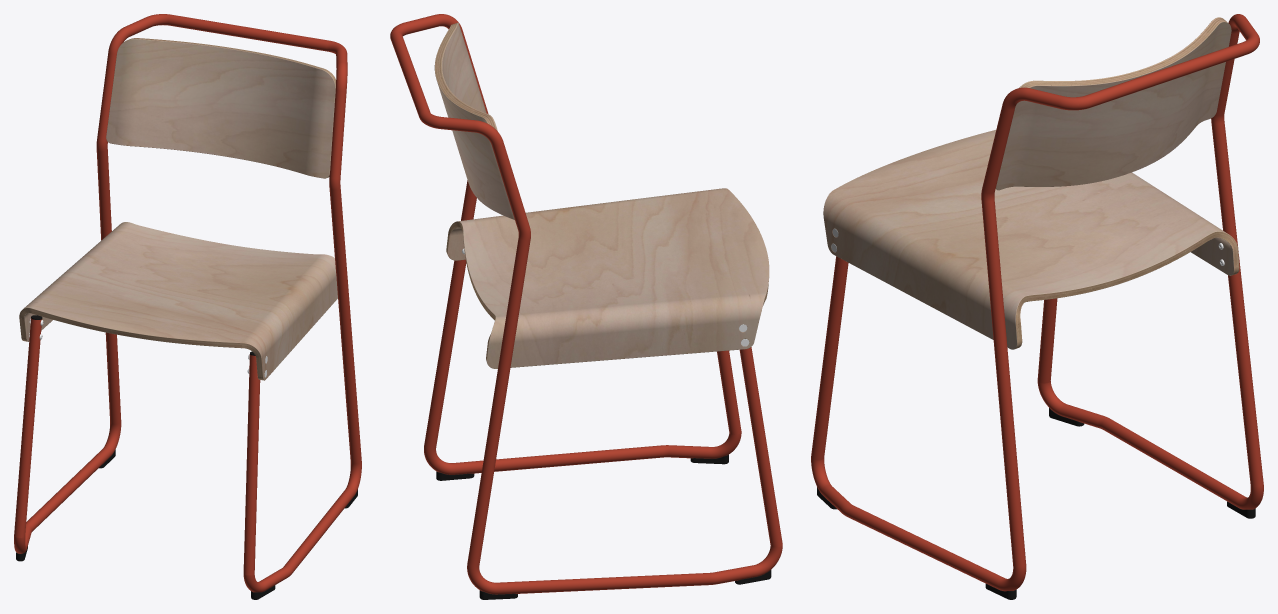
Rendered from CUC_BEECH_CORAL_RED_100DPI_DIFFUSE_ONLY.glb.
3 views of the same model, side by side, from view 1: azimuth 30°, elevation 25°; view 2: azimuth 150°, elevation 25°; view 3: azimuth 270°, elevation 25° (orthographic). The views are drawn at different scales.
Visible parts, largest first — view 1: VGP_CUC_SEAT_RENDER_0_1, VGP_CUC_BACK_RENDER_0, VGP_CUC_FR_RENDER_Default<As Machined>_0, VGP_CUC_SEAT_RENDER_1_0_0, VGP_CUC_BACK_RENDER_1; view 2: VGP_CUC_SEAT_RENDER_0_1, VGP_CUC_FR_RENDER_Default<As Machined>_0, VGP_CUC_BACK_RENDER_0, VGP_CUC_BACK_RENDER_1; view 3: VGP_CUC_SEAT_RENDER_0_1, VGP_CUC_FR_RENDER_Default<As Machined>_0, VGP_CUC_BACK_RENDER_0, VGP_CUC_SEAT_RENDER_1_0_1, VGP_CUC_BACK_RENDER_1, VGP_CUC_SEAT_RENDER_0_0.
Part boxes in pixels (<box>): VGP_CUC_SEAT_RENDER_0_1: <box>19,222,337,380</box>; VGP_CUC_BACK_RENDER_0: <box>106,39,335,178</box>; VGP_CUC_FR_RENDER_Default<As Machined>_0: <box>14,14,361,592</box>; VGP_CUC_SEAT_RENDER_1_0_0: <box>19,309,263,380</box>; VGP_CUC_BACK_RENDER_1: <box>130,38,335,177</box>; VGP_CUC_SEAT_RENDER_0_1: <box>452,188,769,368</box>; VGP_CUC_FR_RENDER_Default<As Machined>_0: <box>390,14,782,594</box>; VGP_CUC_BACK_RENDER_0: <box>434,22,514,219</box>; VGP_CUC_BACK_RENDER_1: <box>435,22,497,130</box>; VGP_CUC_SEAT_RENDER_0_1: <box>823,130,1239,349</box>; VGP_CUC_FR_RENDER_Default<As Machined>_0: <box>811,14,1263,591</box>; VGP_CUC_BACK_RENDER_0: <box>996,18,1231,190</box>; VGP_CUC_SEAT_RENDER_1_0_1: <box>1016,232,1239,343</box>; VGP_CUC_BACK_RENDER_1: <box>995,17,1227,188</box>; VGP_CUC_SEAT_RENDER_0_0: <box>1021,237,1234,339</box>.
Bounding box in the file's own units: 0.672 × 0.808 × 0.654.
Materials: 27 (9 with a texture image).
